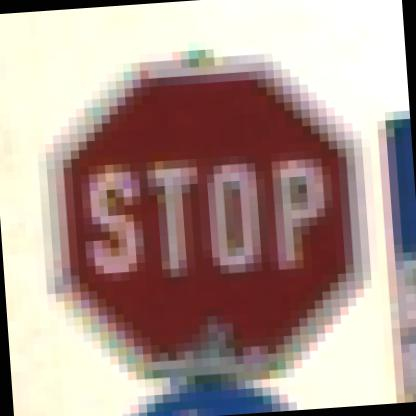stop: (36, 40, 366, 394)
